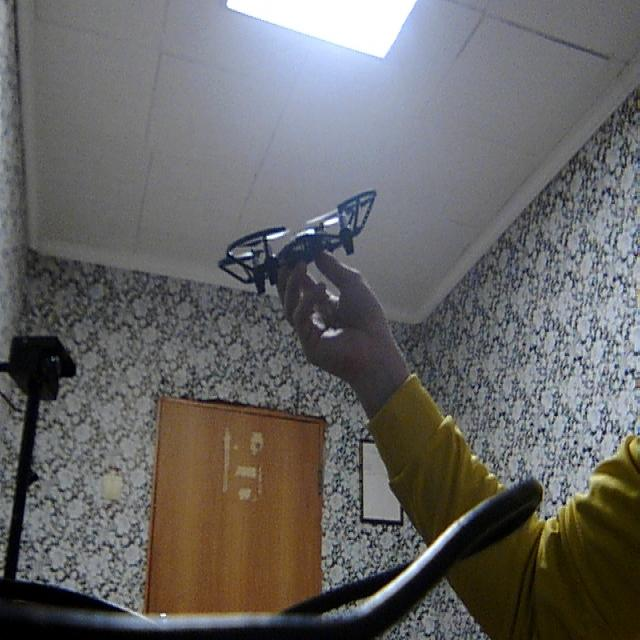drone: (213, 178, 394, 302)
